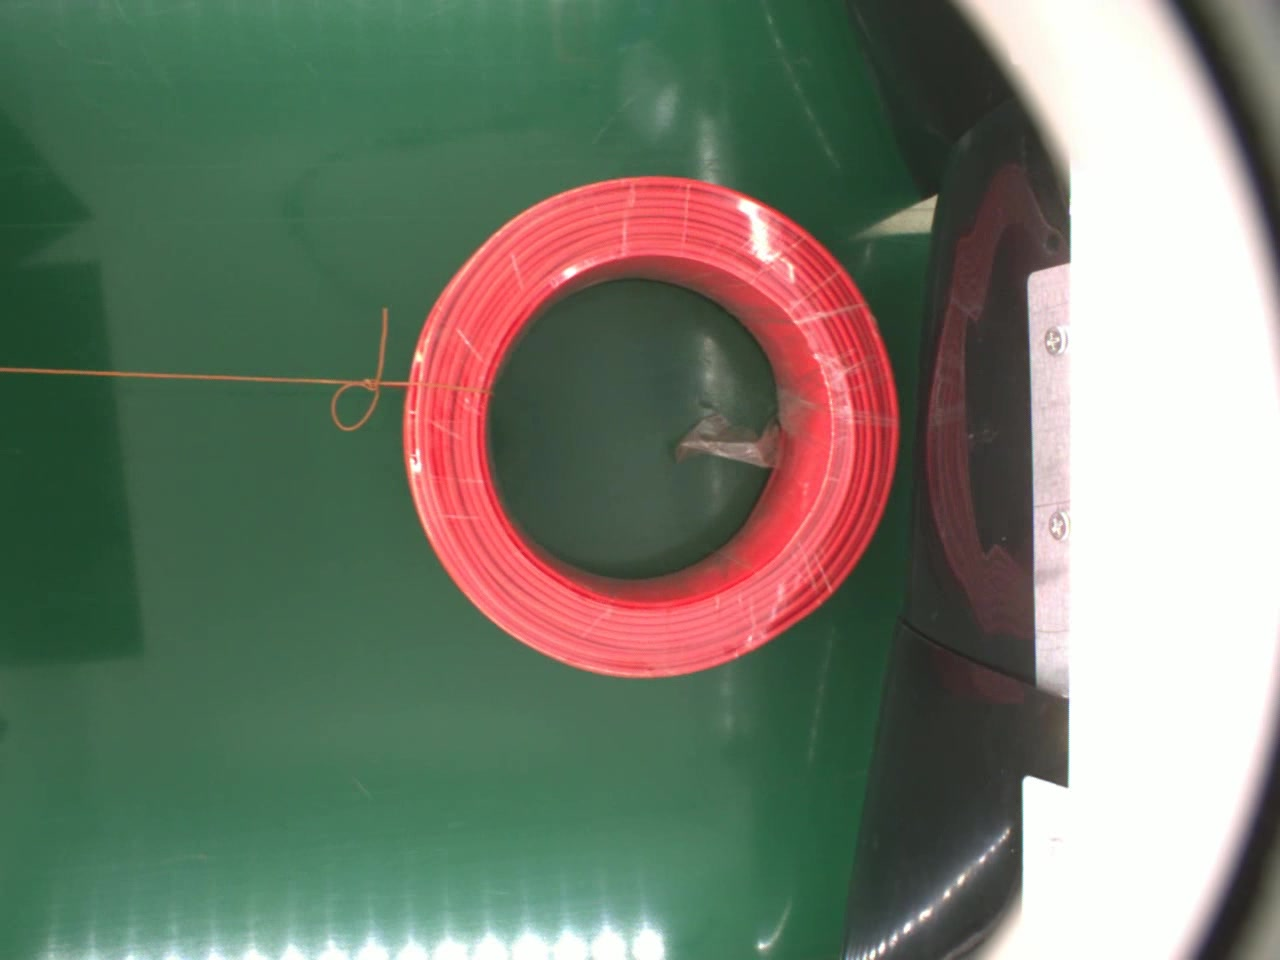red: (395, 168, 899, 683)
